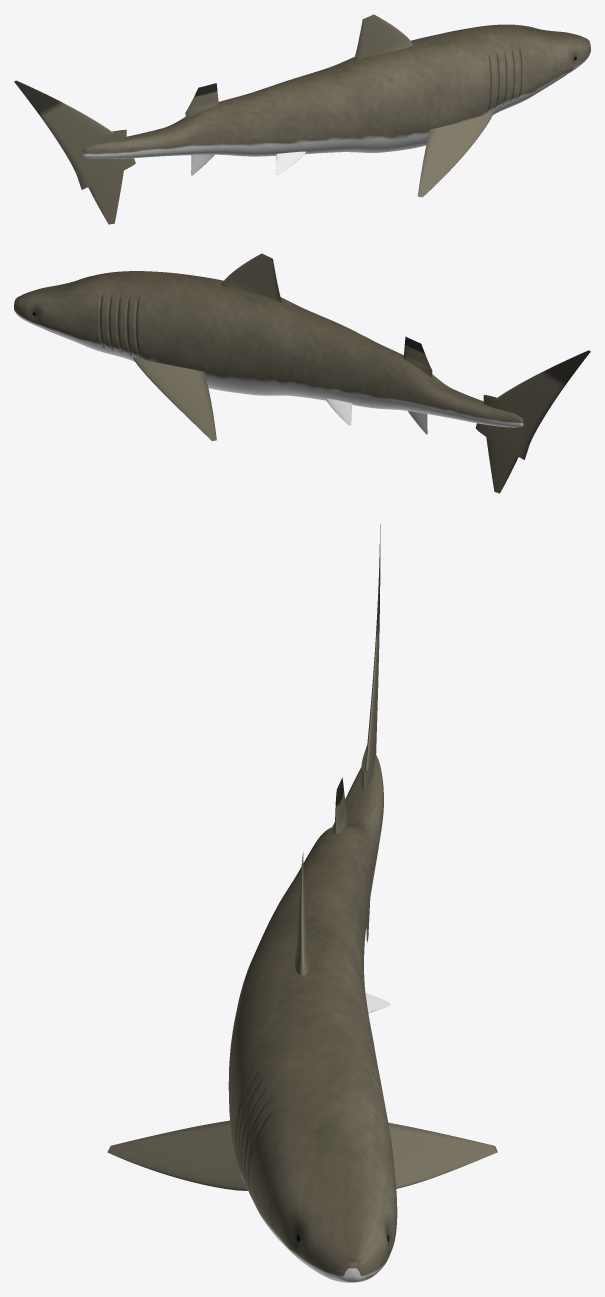
Rendered from blacknose_shark.glb.
3 renders of one model, top to bottom at view 1: azimuth 30°, elevation 25°; view 2: azimuth 150°, elevation 25°; view 3: azimuth 270°, elevation 25°, orthographic. The views are drawn at different scales.
Visible parts, largest first — view 1: blacknose_shark_Body, blacknose_shark_Fins; view 2: blacknose_shark_Body, blacknose_shark_Fins; view 3: blacknose_shark_Body, blacknose_shark_Fins.
Part boxes in pixels (box(x1,y1,x2,y2)): blacknose_shark_Body: box(83, 24, 590, 158); blacknose_shark_Fins: box(14, 14, 493, 224); blacknose_shark_Body: box(14, 271, 523, 427); blacknose_shark_Fins: box(133, 253, 590, 493); blacknose_shark_Body: box(228, 754, 397, 1282); blacknose_shark_Fins: box(107, 524, 497, 1190).
Bounding box in the file's own units: 1.3 × 0.3582 × 0.3871.
3 materials, 1 textured.
